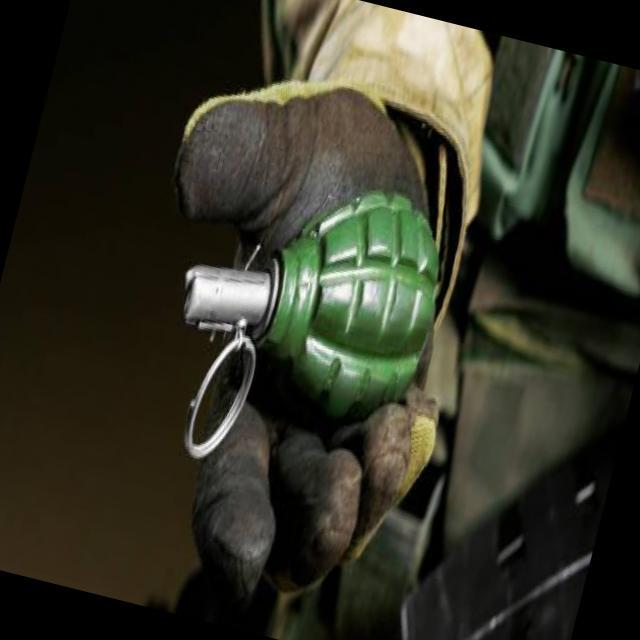grenade: (144, 138, 466, 511)
